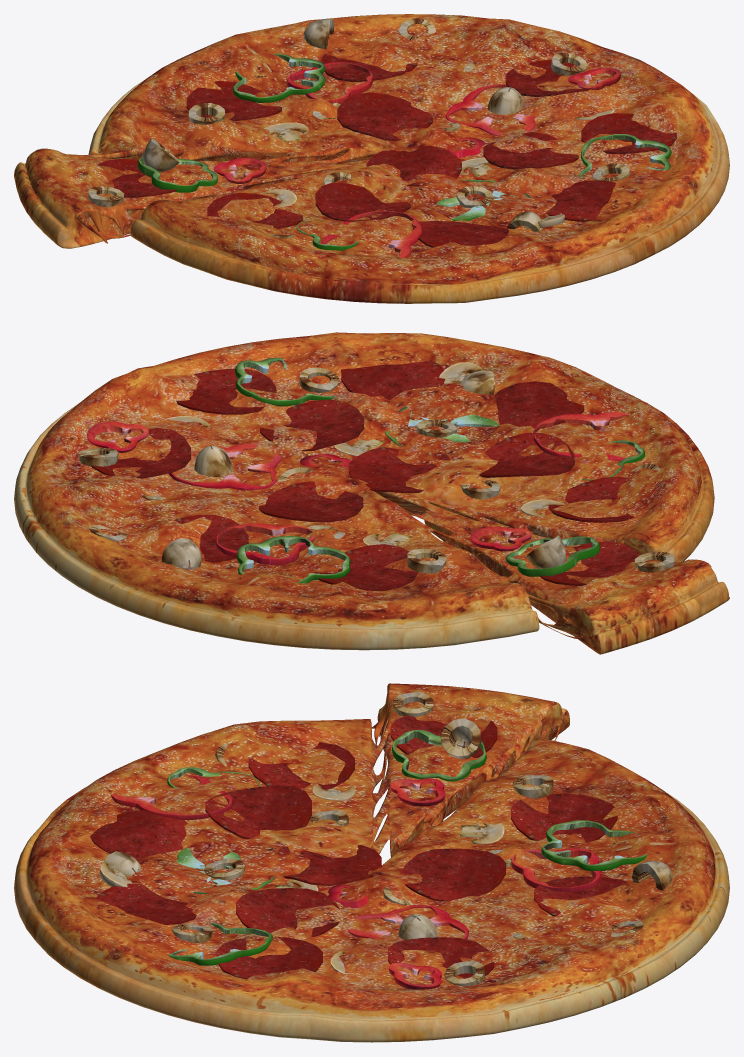
Rendered from asset.glb.
3 renders of one model, top to bottom at view 1: azimuth 30°, elevation 25°; view 2: azimuth 150°, elevation 25°; view 3: azimuth 270°, elevation 25°, orthographic. The views are drawn at different scales.
Parts seen in each view (by area): view 1: polySurface1, polySurface25, polySurface22, polySurface30, polySurface28, polySurface31, polySurface24, polySurface21, polySurface29, polySurface44, polySurface27, polySurface23 (+20 smaller); view 2: polySurface1, polySurface21, polySurface25, polySurface29, polySurface22, polySurface31, polySurface24, polySurface28, polySurface30, polySurface27, polySurface23, polySurface44 (+20 smaller); view 3: polySurface1, polySurface25, polySurface22, polySurface21, polySurface24, polySurface29, polySurface28, polySurface30, polySurface31, polySurface27, polySurface44, polySurface20 (+20 smaller).
Boxes of the visible parts, <box> form: polySurface1: <box>14,14,729,303</box>; polySurface25: <box>337,92,432,140</box>; polySurface22: <box>315,182,410,221</box>; polySurface30: <box>366,145,461,186</box>; polySurface28: <box>581,113,676,153</box>; polySurface31: <box>545,180,616,221</box>; polySurface24: <box>186,81,281,121</box>; polySurface21: <box>412,220,508,247</box>; polySurface29: <box>483,131,578,169</box>; polySurface44: <box>232,53,325,102</box>; polySurface27: <box>505,59,590,96</box>; polySurface23: <box>97,159,176,197</box>; polySurface1: <box>14,332,729,654</box>; polySurface21: <box>494,381,584,428</box>; polySurface25: <box>259,481,363,522</box>; polySurface29: <box>260,399,364,450</box>; polySurface22: <box>479,433,574,477</box>; polySurface31: <box>341,360,445,400</box>; polySurface24: <box>314,544,418,590</box>; polySurface28: <box>176,369,276,414</box>; polySurface30: <box>348,447,449,492</box>; polySurface27: <box>91,428,190,478</box>; polySurface23: <box>540,541,639,585</box>; polySurface44: <box>236,536,350,583</box>; polySurface1: <box>14,683,729,1042</box>; polySurface25: <box>399,848,505,901</box>; polySurface22: <box>205,785,311,838</box>; polySurface21: <box>90,810,187,859</box>; polySurface24: <box>511,793,617,842</box>; polySurface29: <box>236,888,339,936</box>; polySurface28: <box>216,937,322,979</box>; polySurface30: <box>278,845,381,885</box>; polySurface31: <box>96,883,196,924</box>; polySurface27: <box>388,937,494,978</box>; polySurface44: <box>541,820,647,871</box>; polySurface20: <box>248,742,354,789</box>.
Size of the model in its own units: 25.72 by 2.06 by 23.02.
3 materials, 3 textured.
